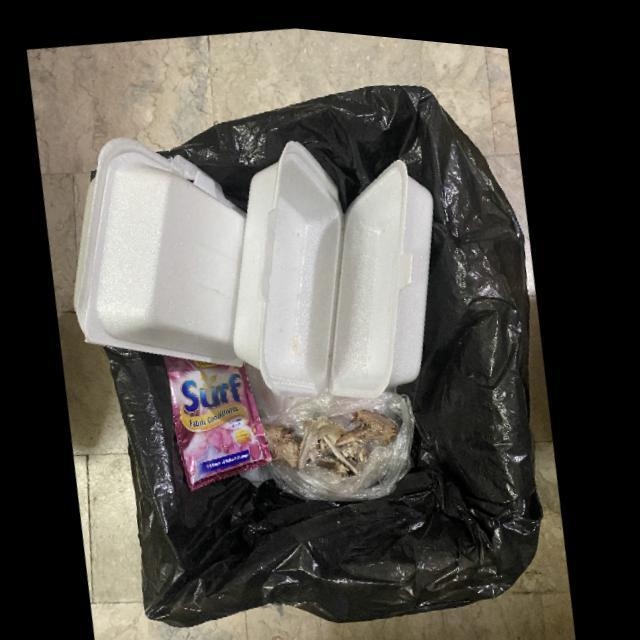biowaste: (269, 402, 402, 469)
plastic: (266, 384, 419, 494)
styrofoam: (236, 135, 435, 391), (75, 135, 248, 362)
wrapper: (166, 352, 278, 488)
